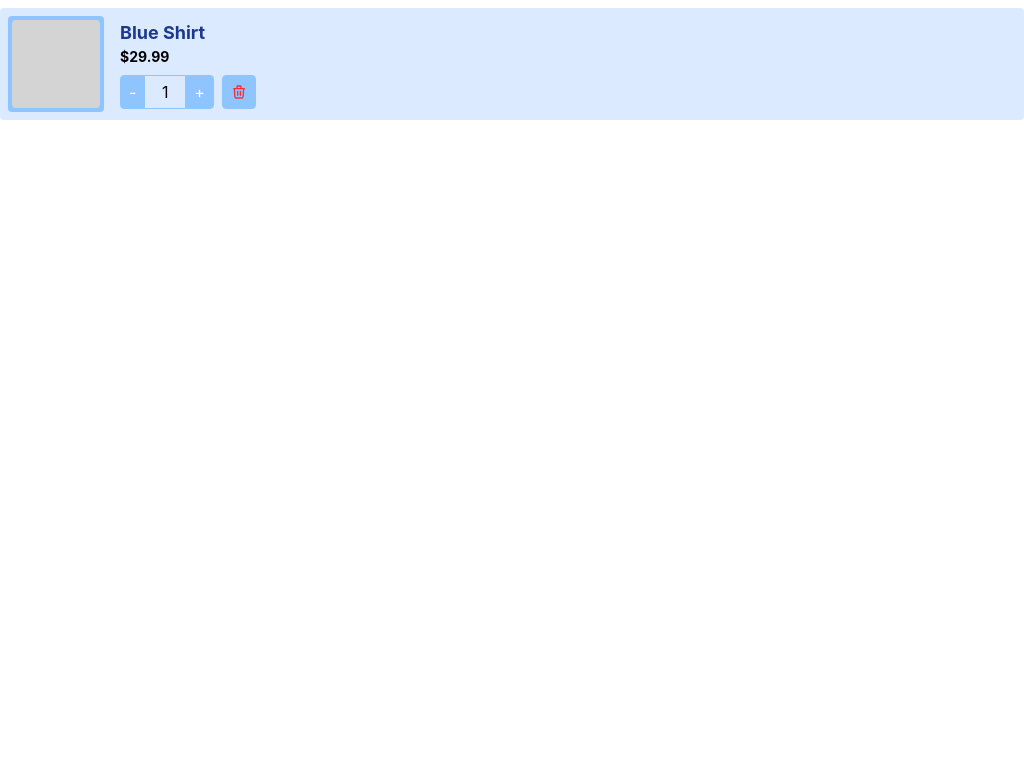
Test: +/- buttons › shows the CartRemove modal when the - button is clicked at qty=1
Step 1. Click the button named "Decrease quantity" → x=133, y=92, box left=120, top=75, right=145, bottom=109
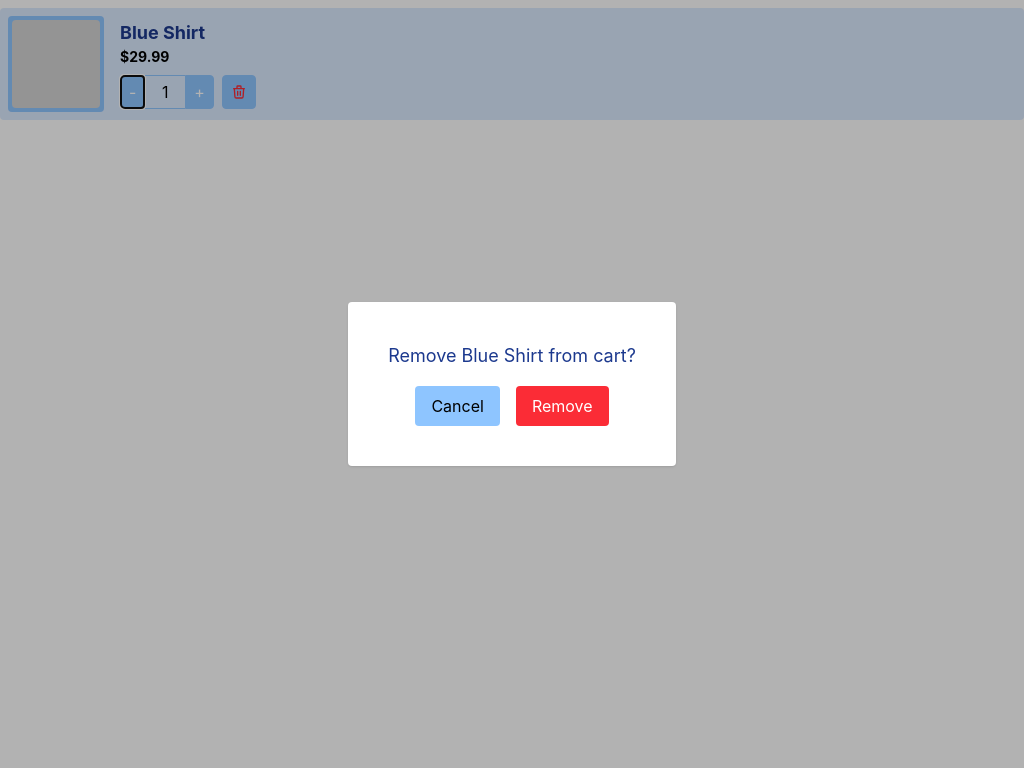
Expected: the text "Remove Blue Shirt from cart?" is shown, left=388, top=342, right=636, bottom=370
